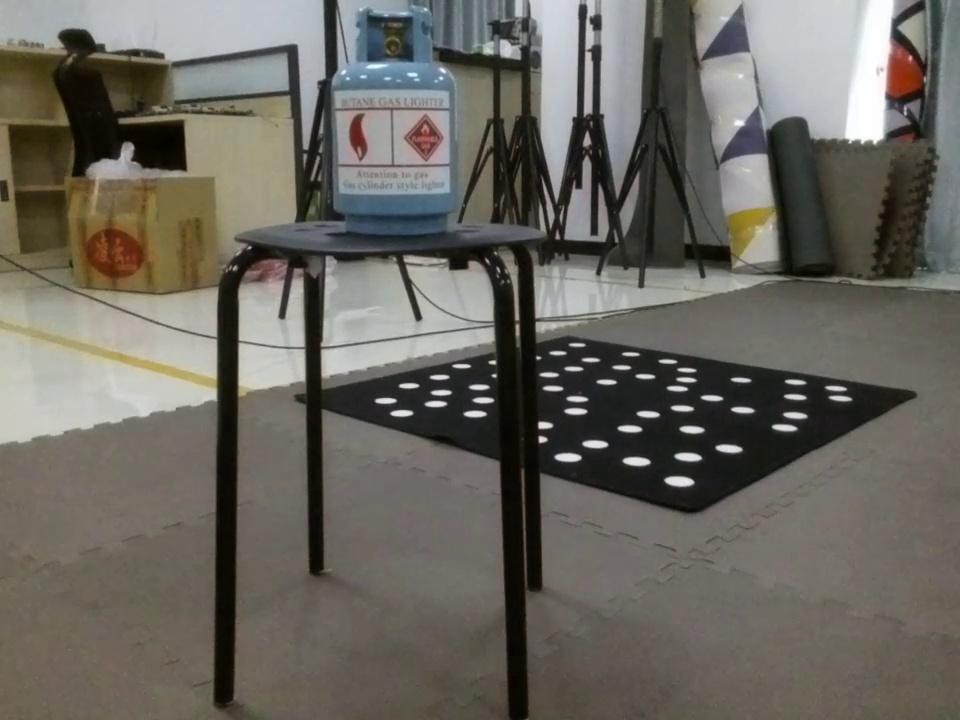gas tank: (310, 1, 489, 248)
